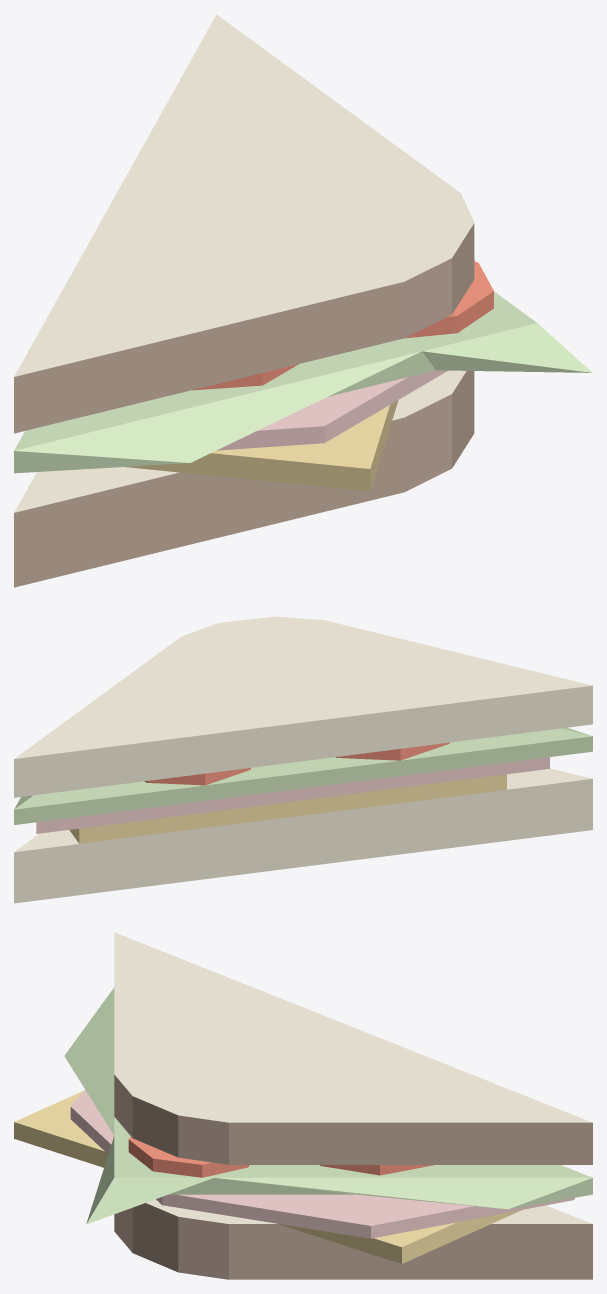
Rendered from Sandwich.fbx.
The picture shows the model from 3 angles, top to bottom: view 1: azimuth 30°, elevation 25°; view 2: azimuth 150°, elevation 25°; view 3: azimuth 270°, elevation 25°; orthographic projection. The views are drawn at different scales.
Parts seen in each view (by area): view 1: Sandwich; view 2: Sandwich; view 3: Sandwich.
Boxes of the visible parts, box(x1,y1,x2,y2) form: Sandwich: box(14, 14, 592, 587); Sandwich: box(14, 616, 592, 903); Sandwich: box(14, 932, 592, 1279).
Size of the model in its own units: 0.1091 by 0.0347 by 0.1158.
